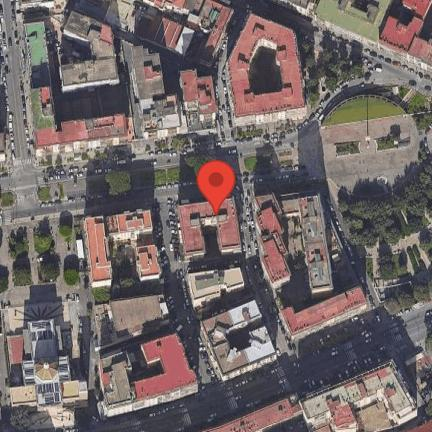area_open: (289, 82, 428, 203), (13, 119, 298, 174), (1, 291, 90, 332), (79, 0, 147, 32)
built: (229, 14, 306, 119), (303, 362, 417, 432), (200, 301, 278, 381), (7, 326, 90, 392), (280, 284, 372, 338), (281, 194, 331, 291), (135, 333, 198, 401), (178, 197, 244, 258), (209, 392, 302, 432), (312, 0, 392, 45), (135, 5, 198, 59), (256, 195, 293, 285), (374, 0, 432, 55), (110, 293, 169, 339), (64, 9, 116, 57), (98, 347, 136, 411), (402, 335, 432, 416), (197, 5, 236, 67), (25, 24, 58, 92), (187, 267, 246, 303), (83, 214, 112, 285), (131, 49, 167, 103), (60, 56, 119, 87), (142, 98, 185, 138), (181, 71, 218, 114), (36, 119, 87, 147), (110, 208, 154, 234), (193, 0, 224, 33), (88, 115, 128, 140), (137, 245, 160, 278), (411, 38, 432, 68), (180, 0, 203, 21), (153, 0, 183, 16), (408, 417, 431, 432)
vegetation_low: (0, 149, 282, 209), (332, 166, 432, 325), (294, 24, 415, 106), (0, 214, 86, 294), (28, 93, 57, 130)
